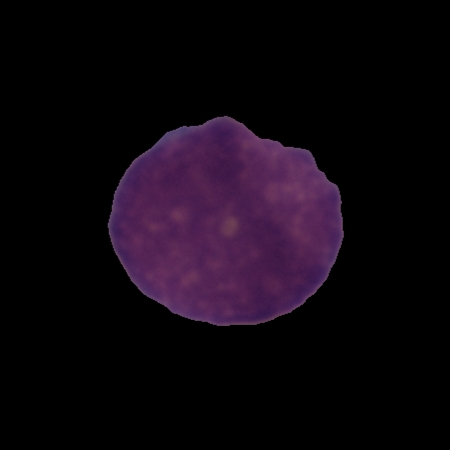HEM: (101, 111, 347, 332)
